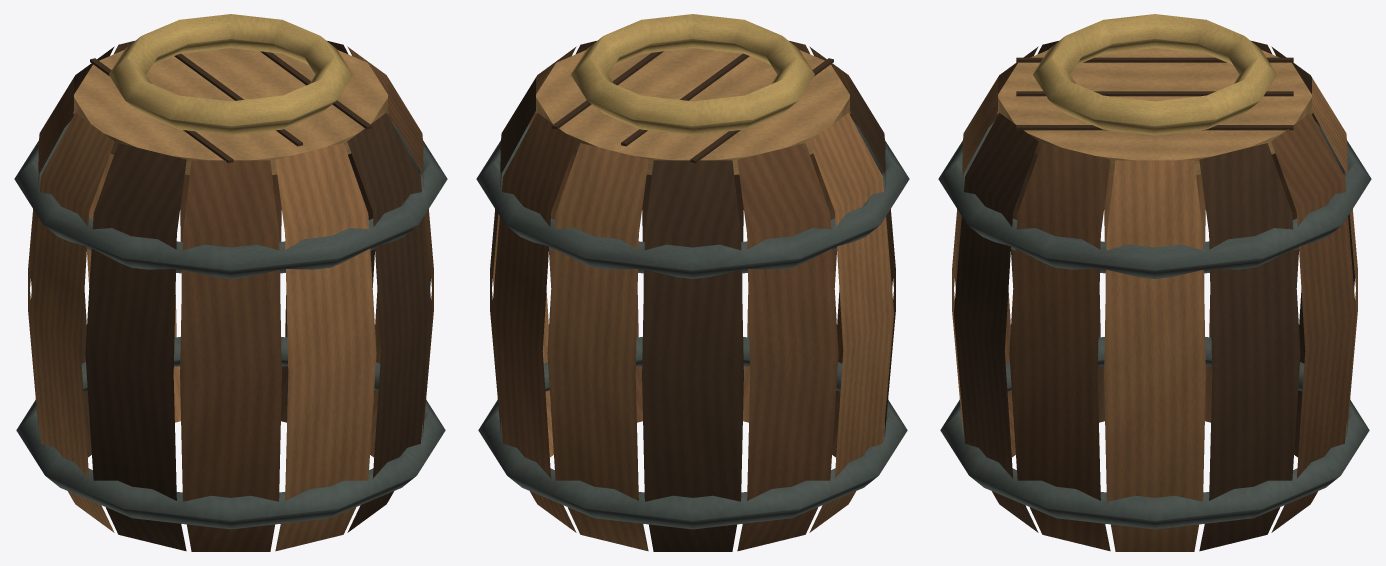
The model's file is barrel-1.fbx.
3 renders of one model, left to right at view 1: azimuth 30°, elevation 25°; view 2: azimuth 150°, elevation 25°; view 3: azimuth 270°, elevation 25°, orthographic.
Parts seen in each view (by area): view 1: barrel-1__Geometry; view 2: barrel-1__Geometry; view 3: barrel-1__Geometry.
Boxes of the visible parts, box(x1,y1,x2,y2) form: barrel-1__Geometry: box(14, 14, 447, 551); barrel-1__Geometry: box(476, 14, 909, 551); barrel-1__Geometry: box(938, 14, 1371, 551).
Bounding box in the file's own units: 0.9224 × 1 × 0.9224.
